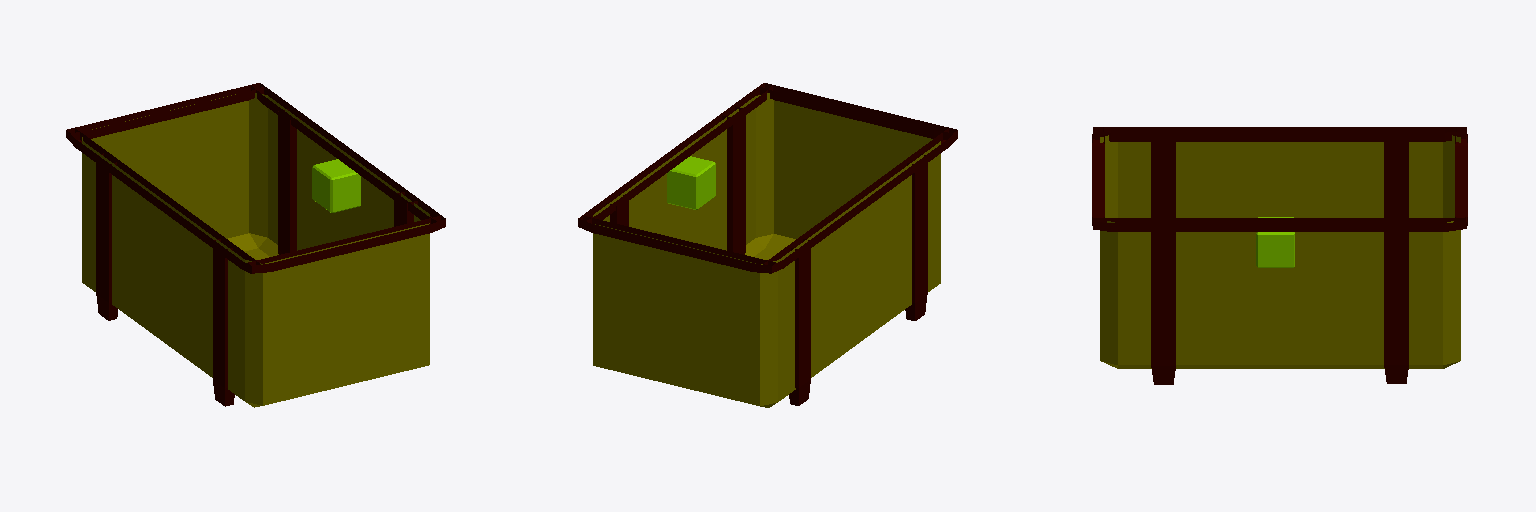
Rendered from ChestBottom.obj.
3 renders of one model, left to right at view 1: azimuth 30°, elevation 25°; view 2: azimuth 150°, elevation 25°; view 3: azimuth 270°, elevation 25°, orthographic.
Parts seen in each view (by area): view 1: Cube, Cube.008, Cube.009, Cube.011, Cube.010, Cube.007, Cube.005, Cube.004, Cube.012; view 2: Cube, Cube.008, Cube.011, Cube.010, Cube.009, Cube.002, Cube.004, Cube.005, Cube.012; view 3: Cube, Cube.008, Cube.009, Cube.002, Cube.007, Cube.004, Cube.005, Cube.012, Cube.011, Cube.010.
Boxes of the visible parts, <box> form: Cube: <box>82,93,429,407</box>; Cube.008: <box>66,128,260,273</box>; Cube.009: <box>251,83,445,223</box>; Cube.011: <box>67,83,263,139</box>; Cube.010: <box>247,216,445,273</box>; Cube.007: <box>278,109,300,254</box>; Cube.005: <box>96,153,117,320</box>; Cube.004: <box>213,239,234,406</box>; Cube.012: <box>312,159,360,212</box>; Cube: <box>593,93,940,407</box>; Cube.008: <box>763,128,957,272</box>; Cube.011: <box>578,216,776,273</box>; Cube.010: <box>760,83,957,139</box>; Cube.009: <box>578,83,772,223</box>; Cube.002: <box>722,106,745,254</box>; Cube.004: <box>905,154,927,320</box>; Cube.005: <box>789,239,810,405</box>; Cube.012: <box>667,156,715,209</box>; Cube: <box>1100,135,1460,368</box>; Cube.008: <box>1093,127,1465,141</box>; Cube.009: <box>1093,217,1465,231</box>; Cube.002: <box>1151,232,1175,384</box>; Cube.007: <box>1384,232,1408,383</box>; Cube.004: <box>1151,138,1175,217</box>; Cube.005: <box>1384,138,1408,217</box>; Cube.012: <box>1256,217,1294,267</box>; Cube.011: <box>1455,127,1467,228</box>; Cube.010: <box>1092,127,1104,225</box>.
Bounding box in the file's own units: 2.22 × 1.76 × 3.68.